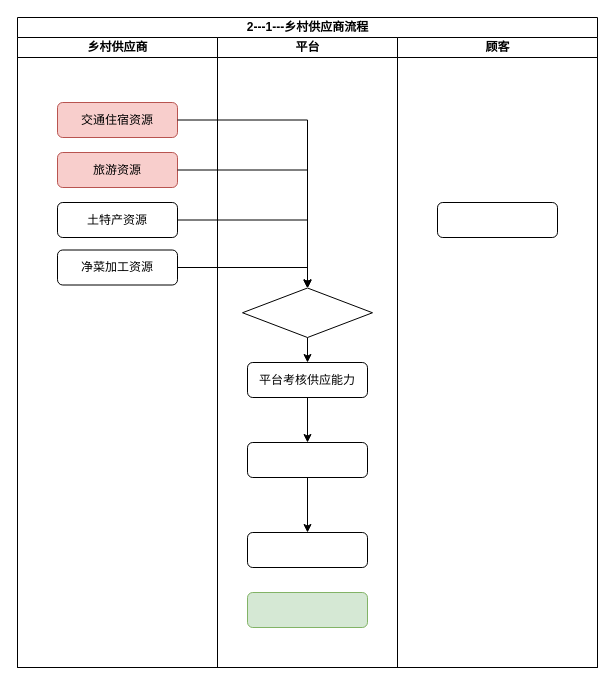
Image size: 615x685. Some labels were removed from this diagram. Each missing label, with the centre of its shape:
"审核" goes at point (307, 312).
"平台考核交易费" goes at point (307, 550).
"平台考核服务水平" goes at point (307, 460).
"通过后商家商品" goes at point (307, 610).
"顾客单独选择付费套餐" goes at point (497, 220).
